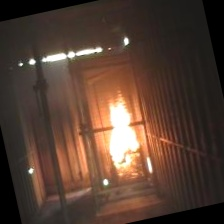fire: (92, 86, 143, 180)
